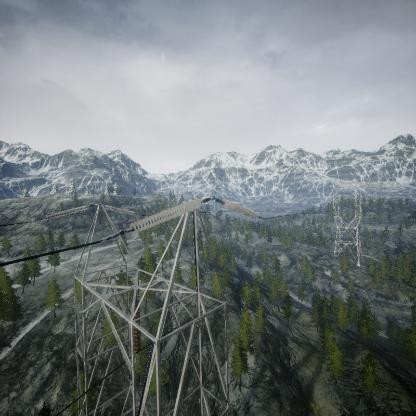insulator: (124, 199, 205, 234), (219, 199, 261, 220), (44, 204, 89, 221), (130, 298, 142, 355), (104, 204, 136, 216)
tower: (330, 187, 366, 269)
